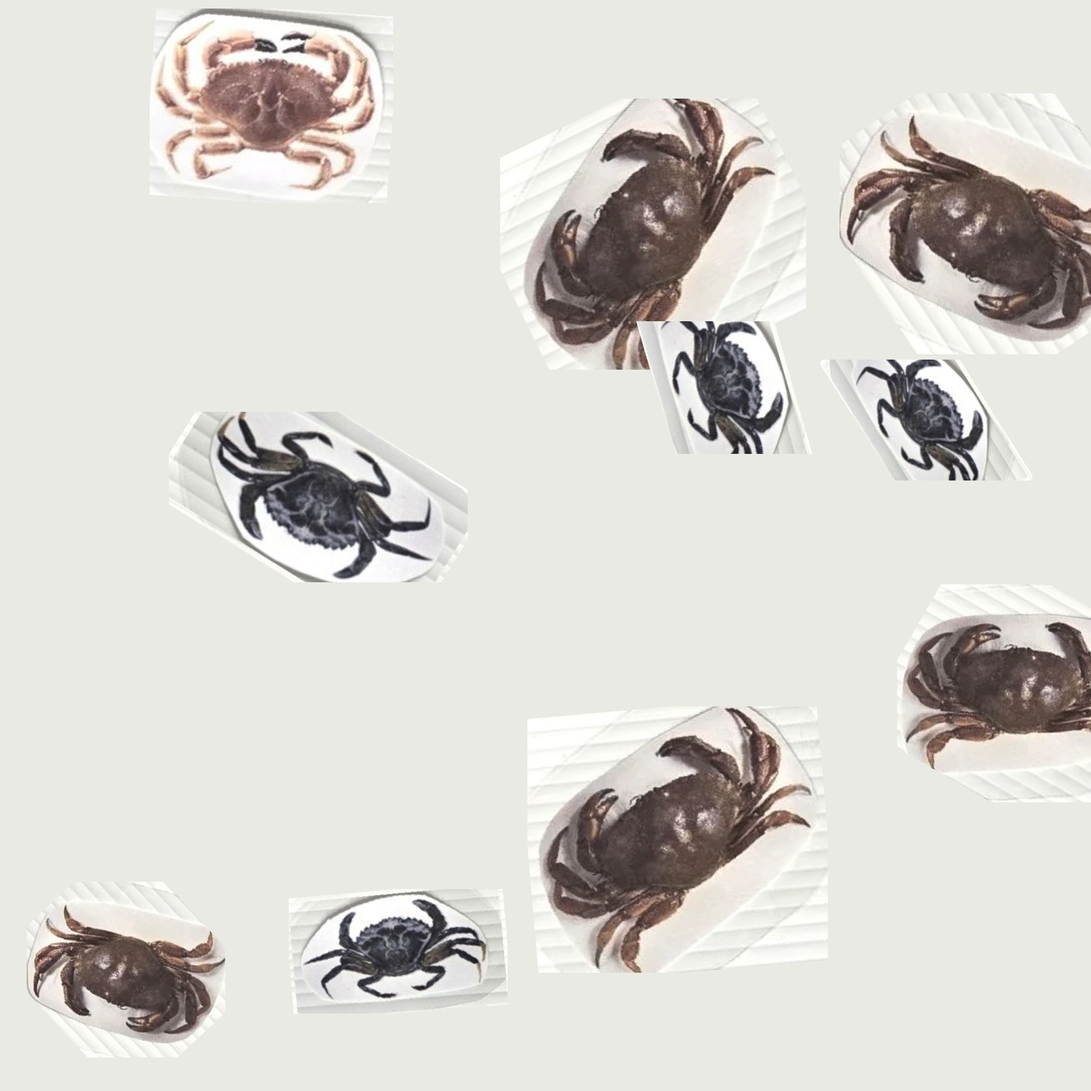evil: (190, 408, 436, 607), (289, 892, 503, 1039), (650, 318, 835, 474), (830, 337, 1034, 465)
normal: (527, 730, 821, 991), (508, 109, 759, 365), (835, 95, 1086, 346), (135, 0, 403, 204), (9, 897, 228, 1053), (920, 607, 1072, 773)
